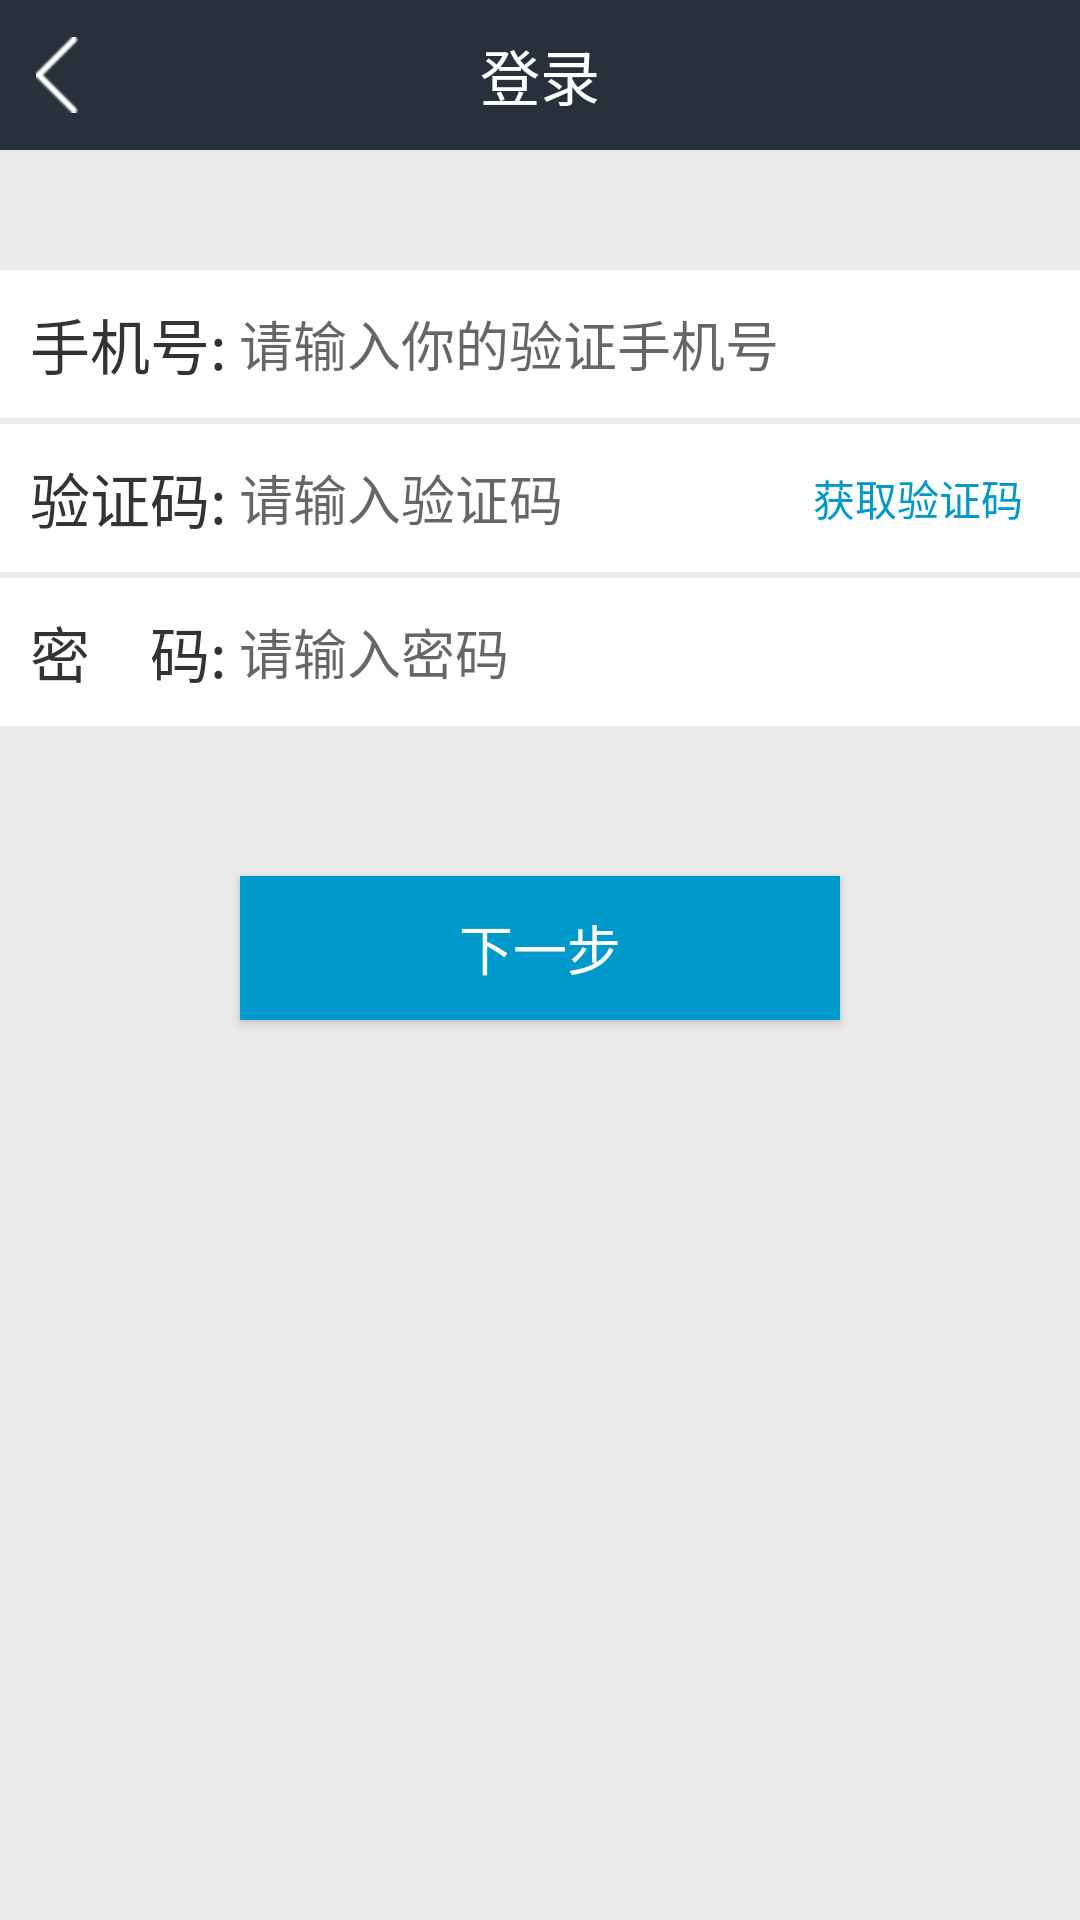

Locate icon controls on the screen. Image size 1080px×1920px, boxes as rect(x1, y1, x2, y2).
left arrow: rect(36, 37, 78, 113)
